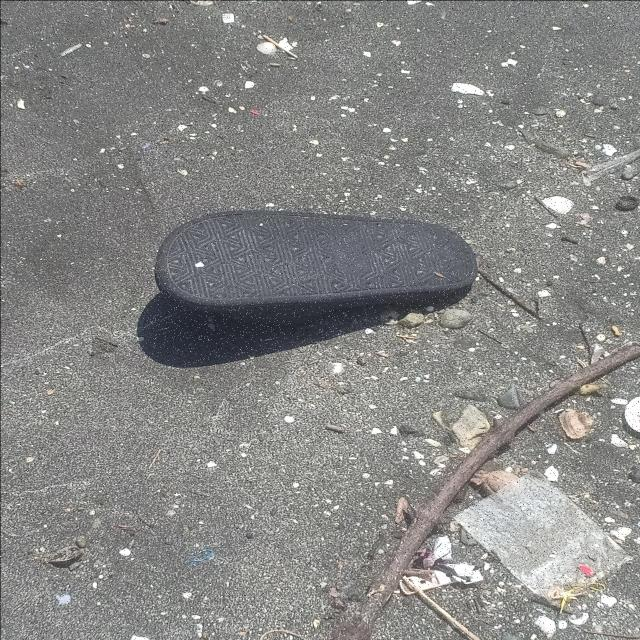rubber_waste: (154, 209, 481, 328)
